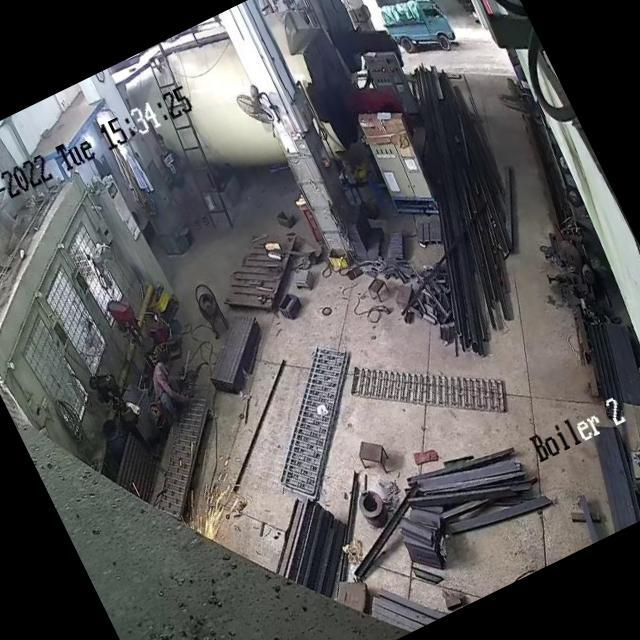person: (142, 120, 218, 237), (140, 349, 197, 419)
